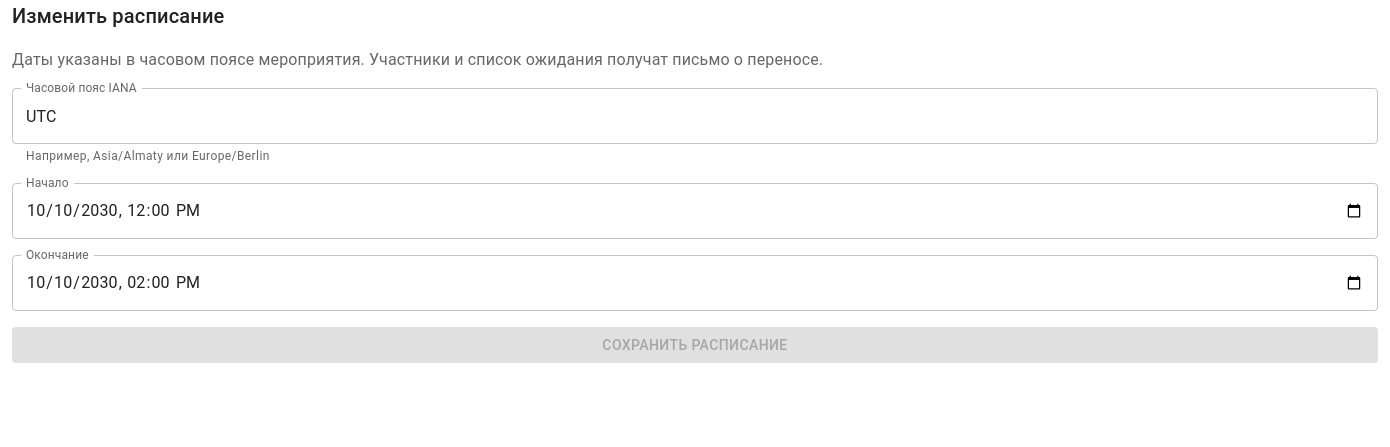
rejects invalid timezone  locally
The width and height of the screenshot is (1390, 447).
Clear the field labelled "Часовой пояс IANA" at {"x": 695, "y": 116}, box left=12, top=88, right=1378, bottom=144
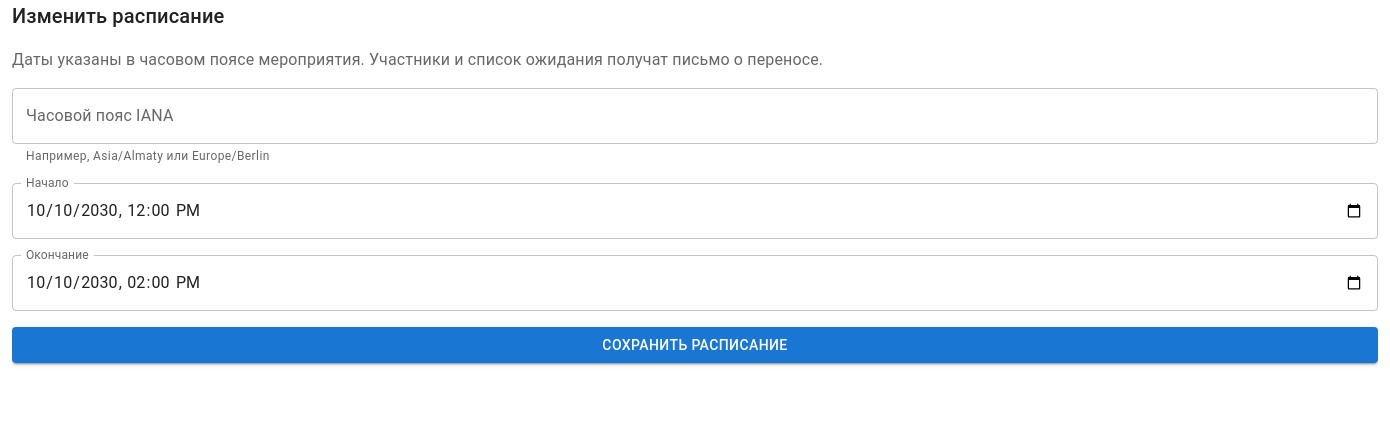
Click the button "Сохранить расписание" at {"x": 695, "y": 345}, box left=12, top=327, right=1378, bottom=363
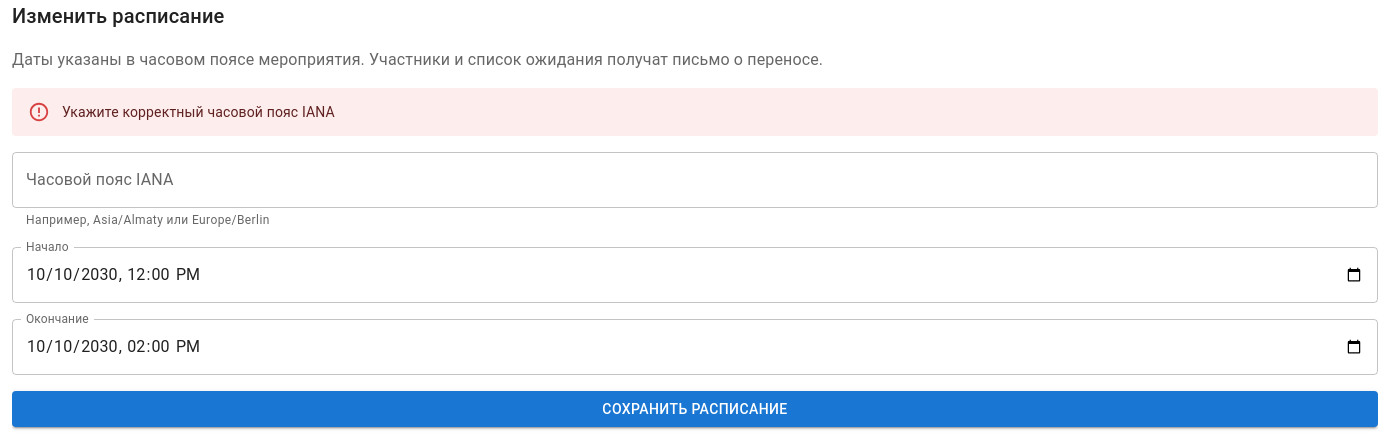
expect the message shows "часовой пояс": met, box left=62, top=104, right=335, bottom=120
